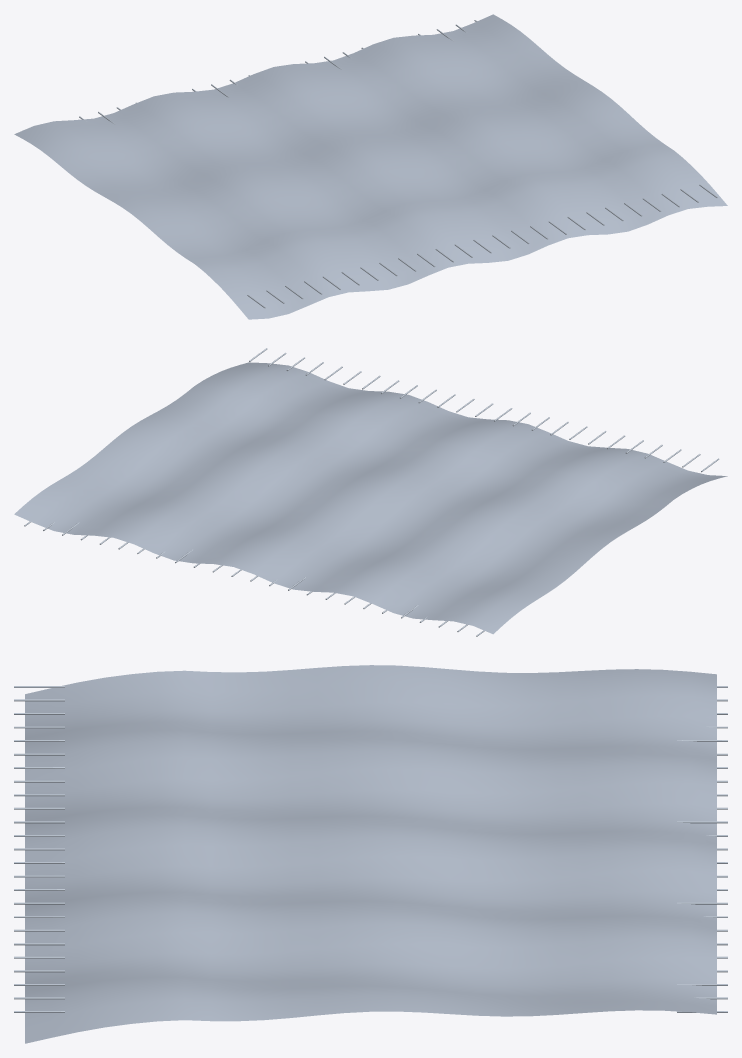
The model's file is sofa-throw-lite.glb.
The picture shows the model from 3 angles, top to bottom: view 1: azimuth 30°, elevation 25°; view 2: azimuth 150°, elevation 25°; view 3: azimuth 270°, elevation 25°; orthographic projection. The views are drawn at different scales.
Visible parts, largest first — view 1: soft, light; view 2: soft, light; view 3: soft, light.
Part boxes in pixels (box(x1,y1,x2,y2)): soft: box(14, 14, 727, 319); light: box(79, 20, 717, 308); soft: box(14, 362, 727, 634); light: box(24, 348, 719, 636); soft: box(25, 665, 716, 1043); light: box(14, 686, 727, 1012).
Size of the model in its own units: 1.12 by 0.0544 by 0.98.
